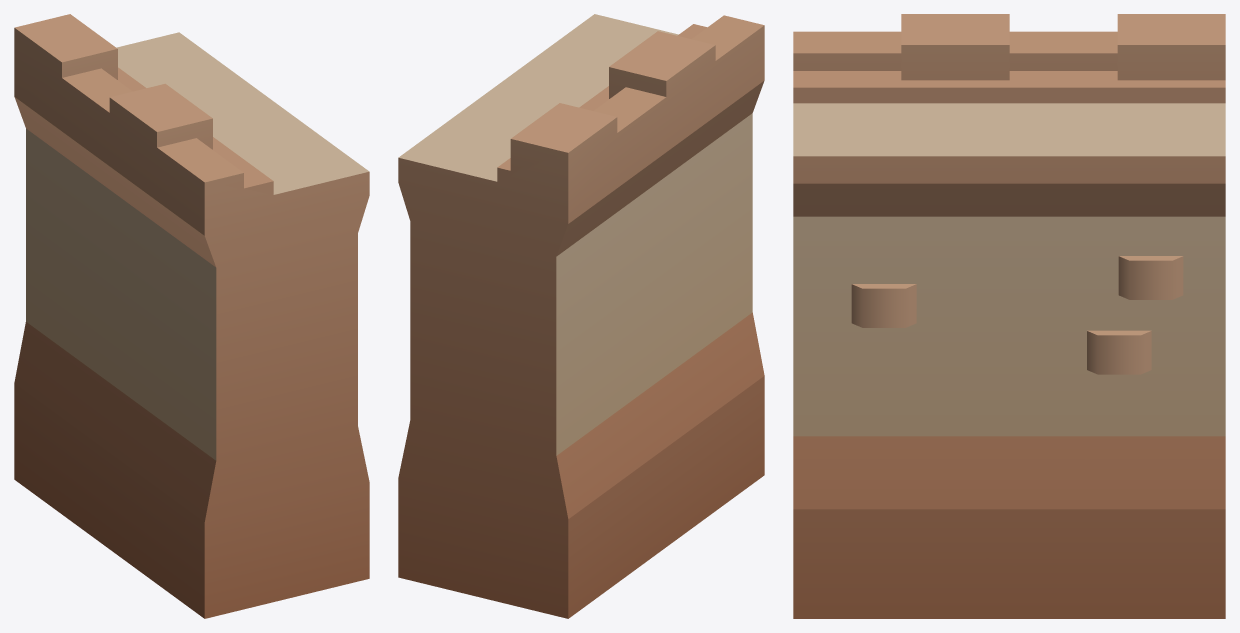
Rendered from wall-narrow.glb.
3 views of the same model, side by side, from view 1: azimuth 30°, elevation 25°; view 2: azimuth 150°, elevation 25°; view 3: azimuth 270°, elevation 25° (orthographic). The views are drawn at different scales.
Visible parts, largest first — view 1: wall-narrow; view 2: wall-narrow; view 3: wall-narrow.
Part boxes in pixels (box(x1,y1,x2,y2)): wall-narrow: box(14, 14, 369, 618); wall-narrow: box(398, 14, 764, 618); wall-narrow: box(793, 14, 1225, 618).
Bounding box in the file's own units: 0.5 × 1.31 × 1.
